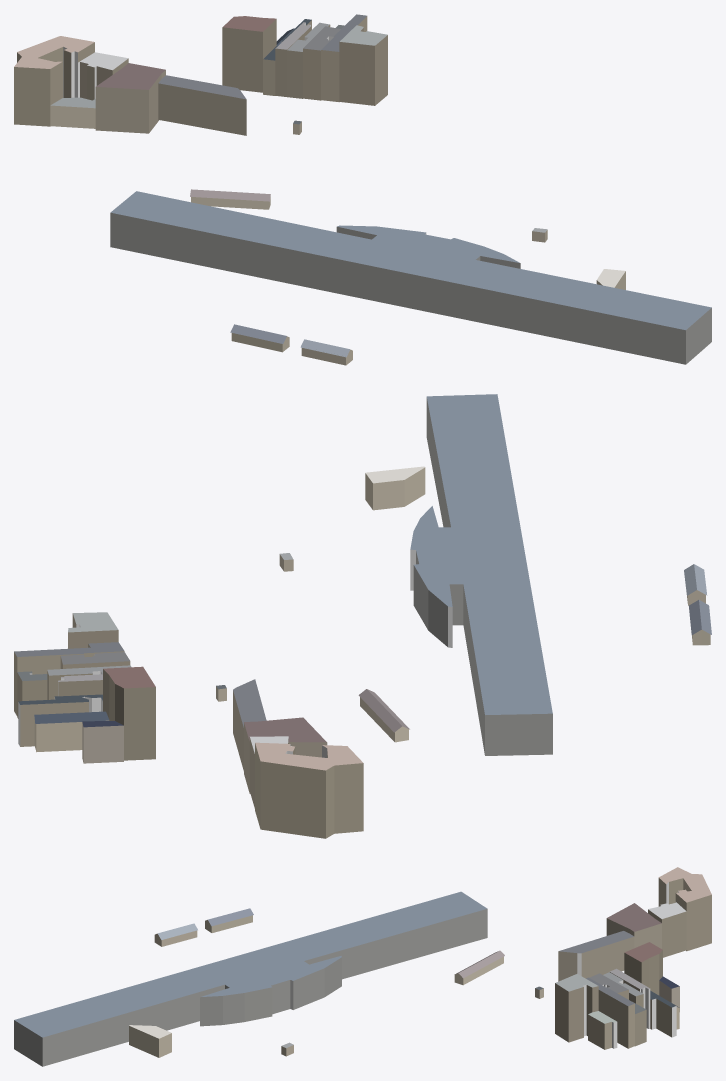
3 views of the same model, one above another, from view 1: azimuth 30°, elevation 25°; view 2: azimuth 150°, elevation 25°; view 3: azimuth 270°, elevation 25° (orthographic). The views are drawn at different scales.
Parts seen in each view (by area): view 1: tuile; view 2: tuile; view 3: tuile.
Boxes of the visible parts, x1,y1,x2,y2 form: tuile: (14,14,711,365); tuile: (14,394,711,838); tuile: (14,867,711,1066).
Size of the model in its own units: 149 by 32.7 by 292.
